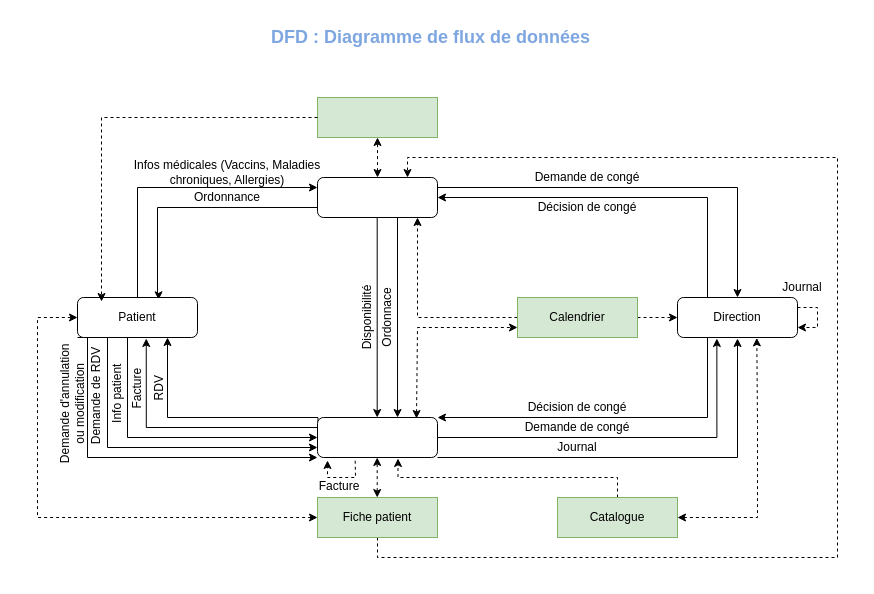
This 874x594 diagram has some shape labels left out. The shapes that lost their labels are listed below. From the top down, each one's box as (x1, y1, x2, y2) in pixels, then its label:
(316, 96, 438, 138): Dossier médical
(316, 176, 438, 218): Médecin
(316, 416, 438, 458): Réception
